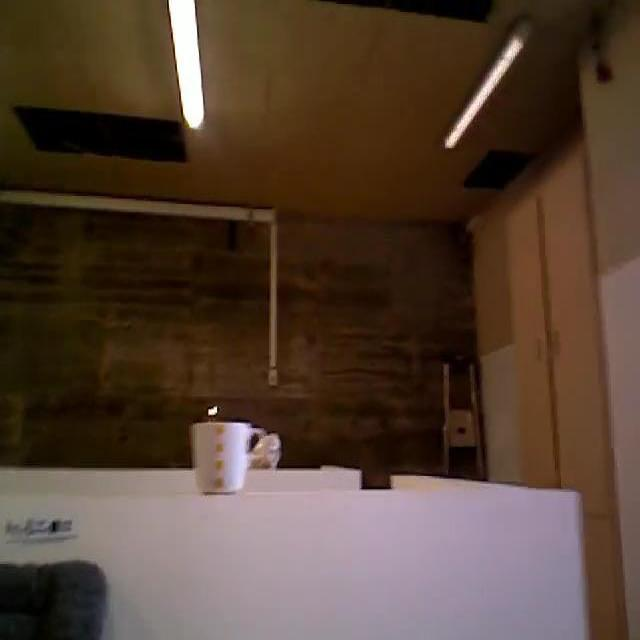cup: (188, 415, 272, 504)
